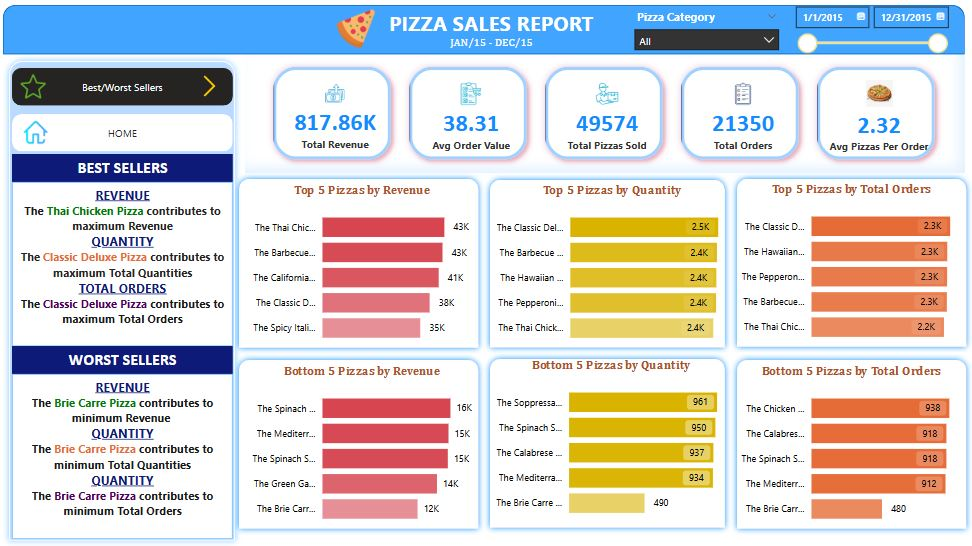

This screenshot's page, from the dashboard's own definition file:
{"tool":"powerbi","page":{"name":"Best/Worst Sellers","canvas":[1280,720],"ordinal":1},"visuals":[{"type":"cardVisual","fields":{"Data":["pizza_sales.Total Revenue","pizza_sales.Avg Order Value","pizza_sales.Total Pizzas Sold","pizza_sales.Total Orders","pizza_sales.Avg Pizzas Per Order"]},"box":[327.7,74.9,941.9,155.8],"z":0},{"type":"shape","box":[10.3,10.3,1259.3,64.7],"z":1000},{"type":"textbox","box":[473.1,10.3,354.1,50],"z":2000},{"type":"textbox","box":[565.7,44.1,169,32.3],"z":3000},{"type":"image","box":[408.5,10.3,127.8,61.7],"z":4000},{"type":"shape","box":[311.5,230.7,329.1,236.6],"z":5000},{"type":"shape","box":[10.3,76.4,311.5,643.6],"z":6000},{"type":"textbox","box":[22,205.7,289.5,36.7],"z":7000},{"type":"textbox","box":[22,242.4,289.5,214.5],"z":8000},{"type":"textbox","box":[22,457,289.5,36.7],"z":9000},{"type":"textbox","box":[22,493.7,289.5,216],"z":10000},{"type":"slicer","fields":{"Values":["pizza_sales.pizza_category"]},"box":[827.3,10.3,208.7,61.7],"z":11000},{"type":"barChart","title":"Top 5 Pizzas by Revenue","fields":{"Category":["pizza_sales.pizza_name"],"Y":["pizza_sales.Total Revenue"]},"box":[320.8,243.6,319.2,221.7],"z":12000},{"type":"shape","box":[640.7,232.2,323.3,235.1],"z":13000},{"type":"shape","box":[963.9,230.7,315.9,235.1],"z":14000},{"type":"shape","box":[311.5,467.3,329.1,236.6],"z":15000},{"type":"shape","box":[640.7,465.8,323.3,236.6],"z":16000},{"type":"shape","box":[963.9,467.3,315.9,236.6],"z":17000},{"type":"barChart","title":"Bottom 5 Pizzas by Revenue","fields":{"Category":["pizza_sales.pizza_name"],"Y":["pizza_sales.Total Revenue"]},"box":[320.8,480.4,319.2,221.7],"z":18000},{"type":"barChart","title":"Top 5 Pizzas by Quantity","fields":{"Category":["pizza_sales.pizza_name"],"Y":["pizza_sales.Total Pizzas Sold"]},"box":[640.7,243.9,335,221.9],"z":19000},{"type":"barChart","title":"Bottom 5 Pizzas by Quantity","fields":{"Category":["pizza_sales.pizza_name"],"Y":["pizza_sales.Total Pizzas Sold"]},"box":[637.7,473.1,338,221.9],"z":20000},{"type":"barChart","title":"Top 5 Pizzas by Total Orders","fields":{"Category":["pizza_sales.pizza_name"],"Y":["pizza_sales.Total Orders"]},"box":[961,242.4,318.9,221.9],"z":21000},{"type":"barChart","title":"Bottom 5 Pizzas by Total Orders","fields":{"Category":["pizza_sales.pizza_name"],"Y":["pizza_sales.Total Orders"]},"box":[960.8,480.4,319.2,221.7],"z":22000},{"type":"pageNavigator","box":[22,92.6,289.5,50],"z":23000},{"type":"pageNavigator","box":[22,152.8,289.5,50],"z":24000},{"type":"slicer","fields":{"Values":["pizza_sales.order_date"]},"box":[1035.9,2.9,220.4,79.3],"z":25000},{"type":"image","box":[32.3,155.8,41.1,42.6],"z":26000},{"type":"image","box":[27.9,95.5,45.6,42.6],"z":27000},{"type":"image","box":[261.6,95.5,38.2,42.6],"z":28000}]}

Visuals, with their boxes in screenshot pixels (x1, y1, x2, y2), scaled from the page's 1280x720 canvas onto the 972x546 screenshot:
cardVisual - pizza_sales.Total Revenue x pizza_sales.Avg Order Value: select_region(249, 57, 964, 175)
shape: select_region(8, 8, 964, 57)
textbox: select_region(359, 8, 628, 46)
textbox: select_region(430, 33, 558, 58)
image: select_region(310, 8, 407, 55)
shape: select_region(237, 175, 486, 354)
shape: select_region(8, 58, 244, 545)
textbox: select_region(17, 156, 237, 184)
textbox: select_region(17, 184, 237, 346)
textbox: select_region(17, 347, 237, 374)
textbox: select_region(17, 374, 237, 538)
slicer - pizza_sales.pizza_category: select_region(628, 8, 787, 55)
"Top 5 Pizzas by Revenue" barChart: select_region(244, 185, 486, 353)
shape: select_region(487, 176, 732, 354)
shape: select_region(732, 175, 971, 353)
shape: select_region(237, 354, 486, 534)
shape: select_region(487, 353, 732, 533)
shape: select_region(732, 354, 971, 534)
"Bottom 5 Pizzas by Revenue" barChart: select_region(244, 364, 486, 532)
"Top 5 Pizzas by Quantity" barChart: select_region(487, 185, 741, 353)
"Bottom 5 Pizzas by Quantity" barChart: select_region(484, 359, 741, 527)
"Top 5 Pizzas by Total Orders" barChart: select_region(730, 184, 971, 352)
"Bottom 5 Pizzas by Total Orders" barChart: select_region(730, 364, 971, 532)
pageNavigator: select_region(17, 70, 237, 108)
pageNavigator: select_region(17, 116, 237, 154)
slicer - pizza_sales.order_date: select_region(787, 2, 954, 62)
image: select_region(25, 118, 56, 150)
image: select_region(21, 72, 56, 105)
image: select_region(199, 72, 228, 105)
